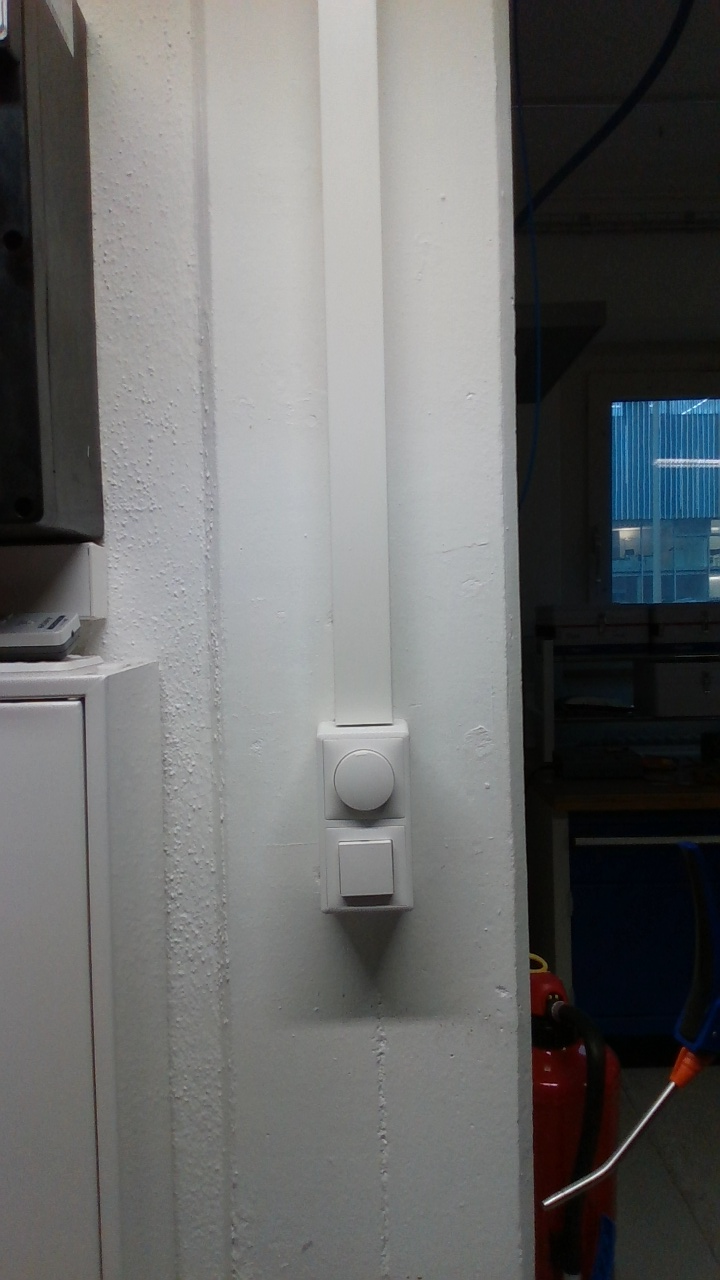Light_Switch: (321, 820, 415, 914), (318, 733, 411, 821)
